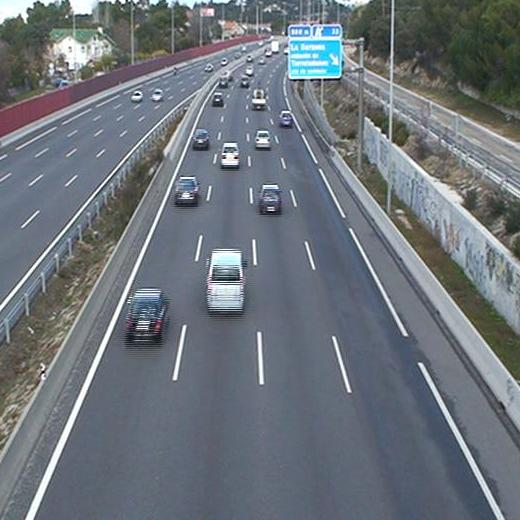car: (128, 290, 165, 340), (260, 187, 281, 213), (175, 178, 195, 205), (220, 142, 238, 166), (192, 129, 208, 151), (255, 130, 270, 148), (279, 111, 292, 127), (212, 93, 224, 105), (240, 76, 250, 90)
small-truck: (251, 88, 266, 111)
van: (207, 249, 242, 310)
